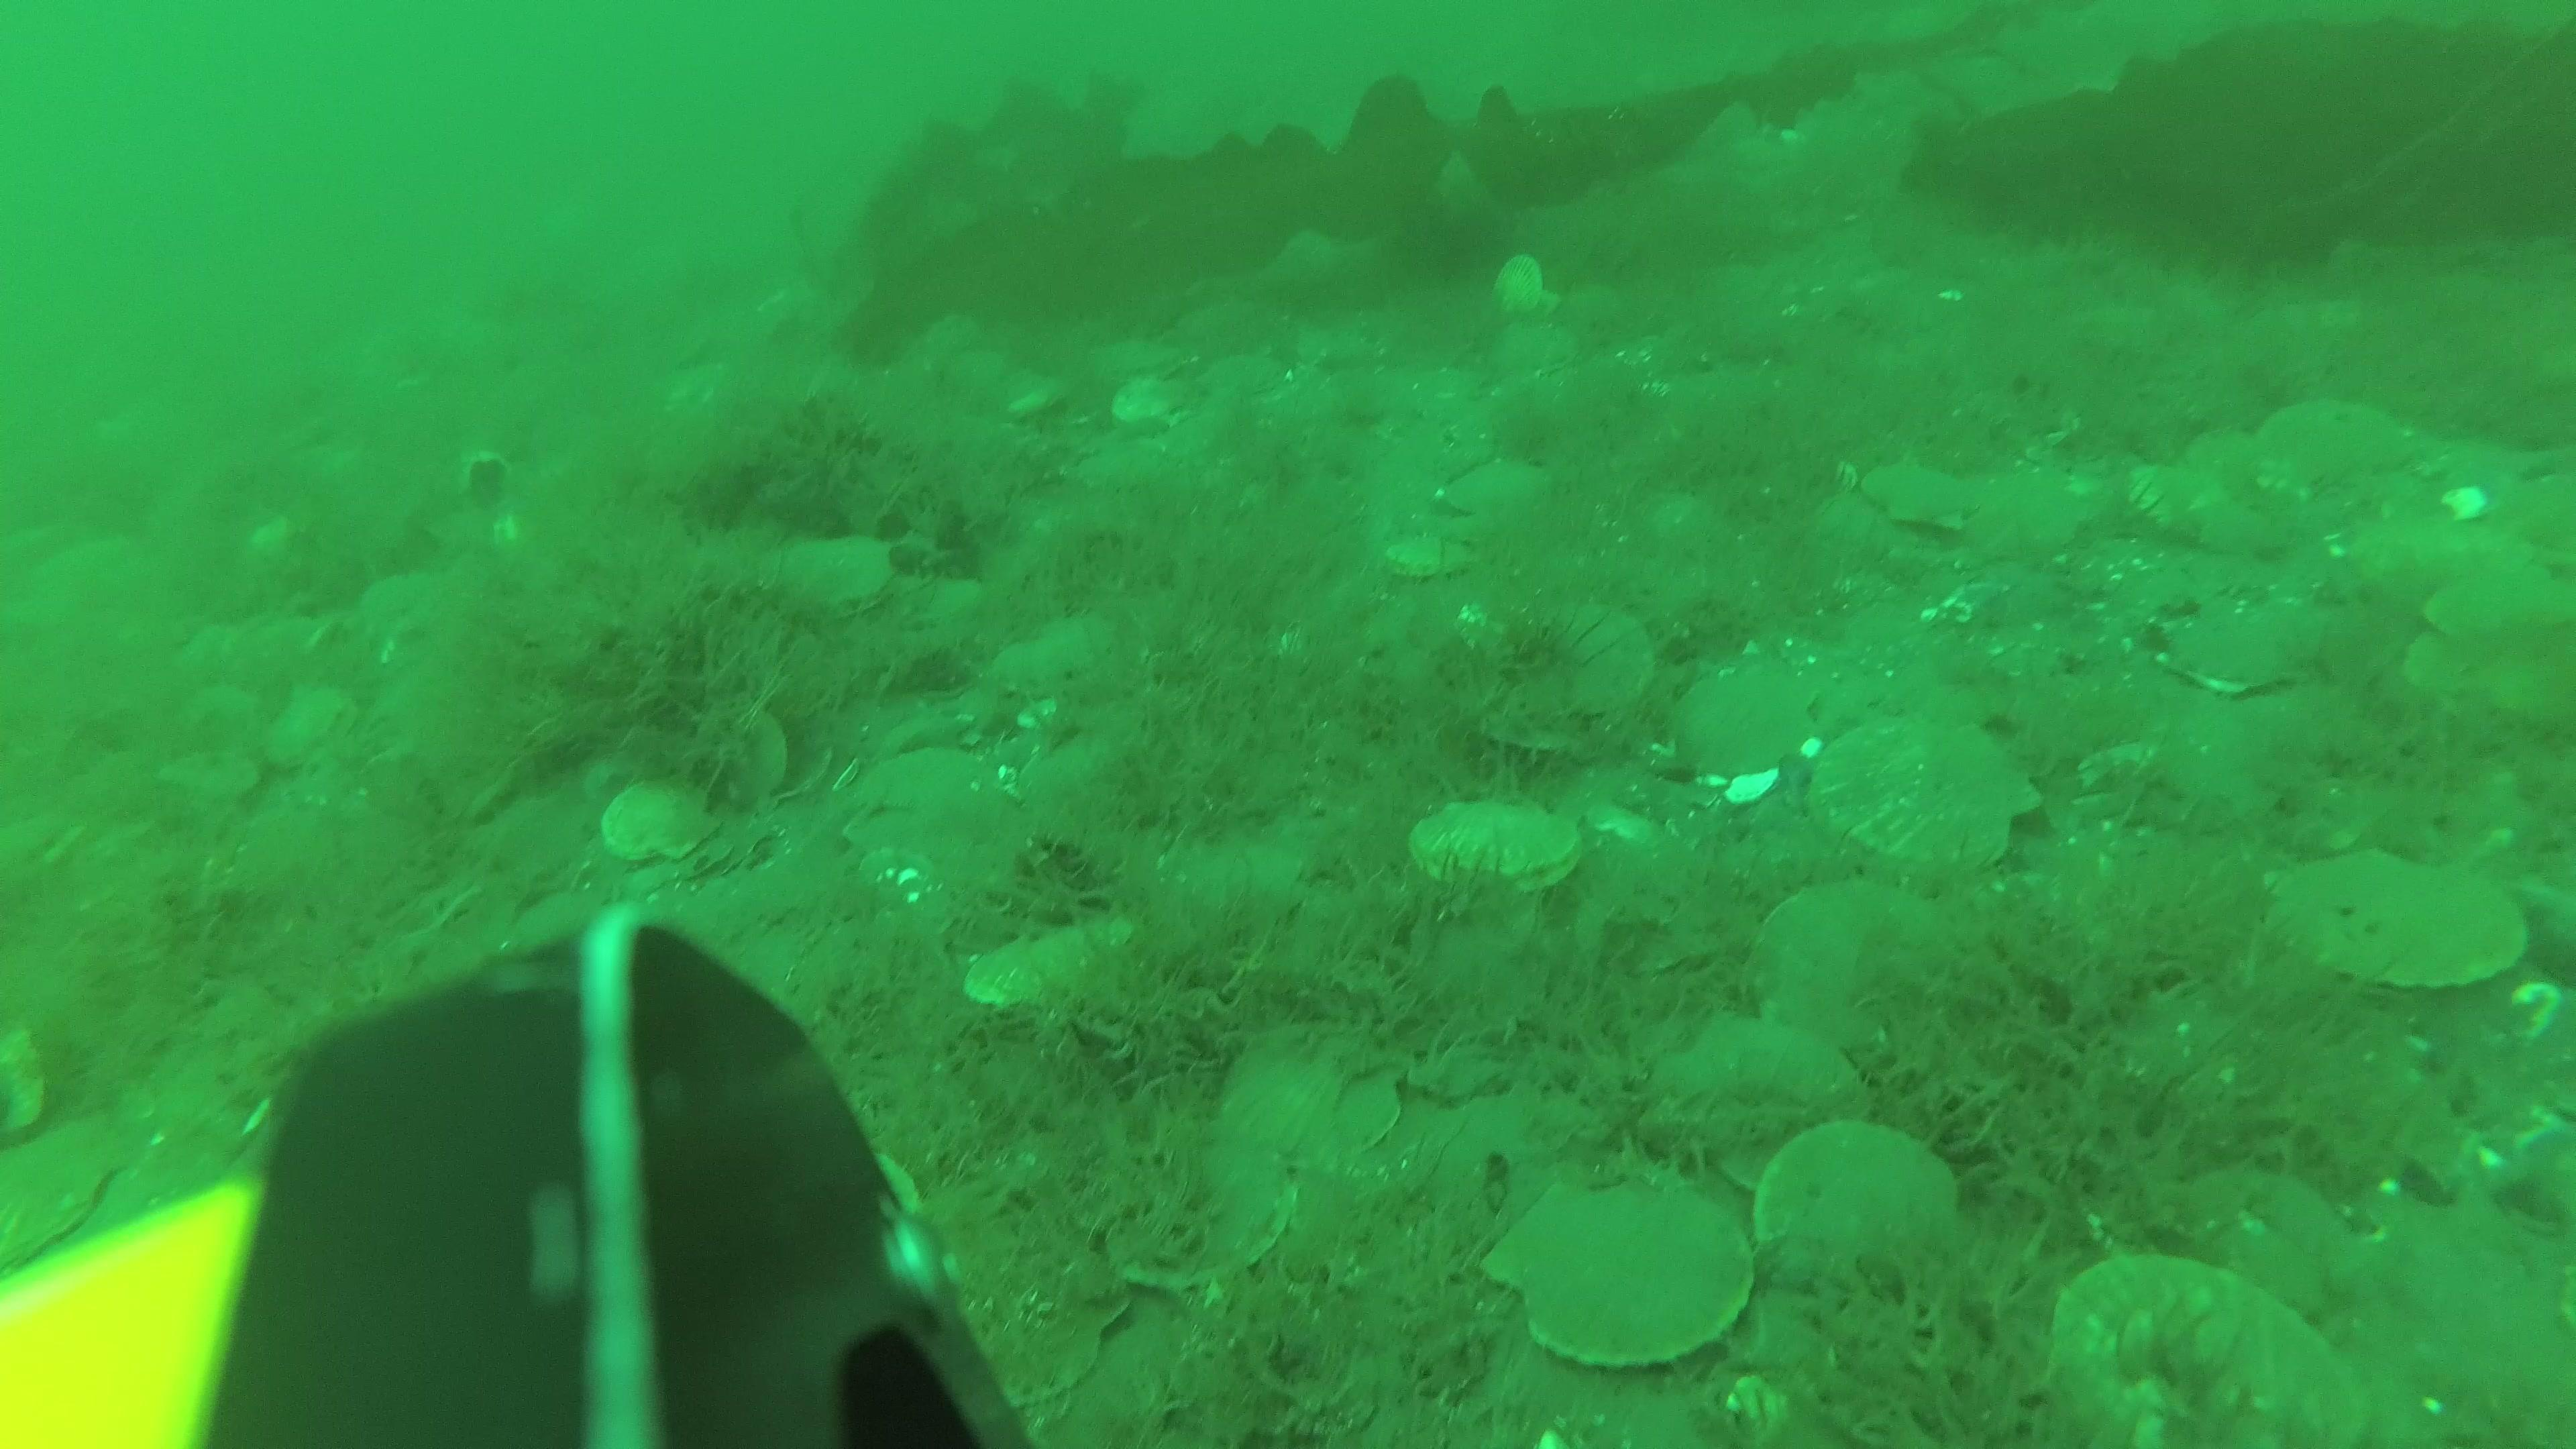scallop: (2061, 1247, 2376, 1424), (1497, 1177, 1744, 1376), (2259, 840, 2532, 998), (1815, 711, 2052, 883), (1748, 1120, 1962, 1297), (1093, 1129, 1306, 1297), (1755, 879, 1960, 1046), (1230, 1017, 1415, 1166), (1645, 642, 1844, 780), (957, 1238, 1125, 1399), (1479, 594, 1658, 729), (2, 1104, 134, 1265), (1405, 791, 1587, 902), (970, 922, 1122, 1033), (763, 531, 908, 633), (2266, 384, 2415, 483), (2132, 460, 2282, 557), (2167, 591, 2309, 694), (593, 771, 720, 865), (690, 697, 796, 805), (2181, 425, 2309, 513), (269, 676, 361, 775), (1863, 455, 1971, 531), (1445, 464, 1557, 533), (1378, 525, 1488, 586), (1493, 317, 1587, 386), (1093, 322, 1201, 380), (1484, 253, 1557, 322), (1214, 341, 1293, 400), (1116, 372, 1187, 428)
